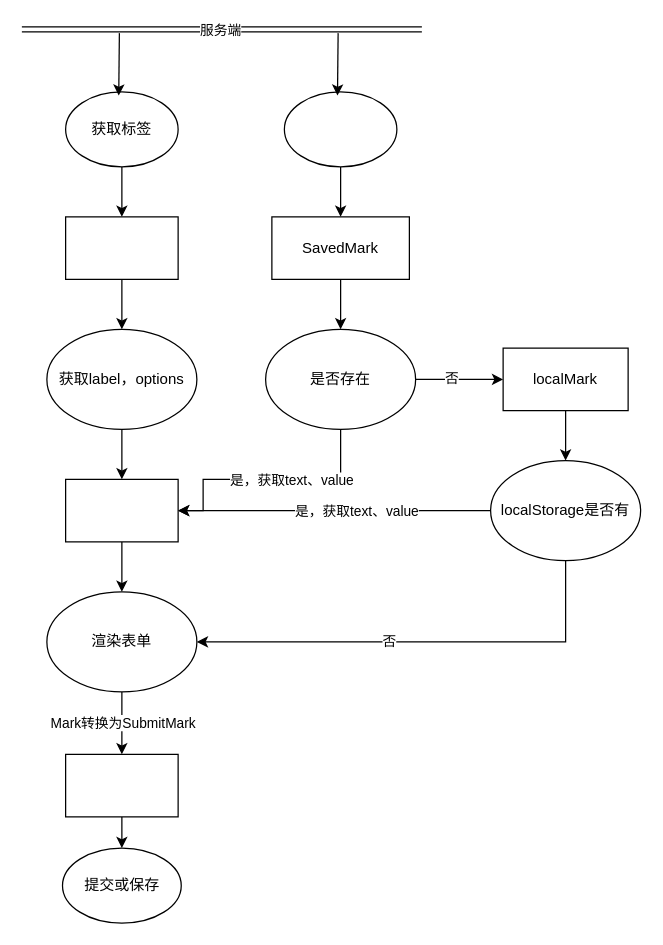
This 663x945 diagram has some shape labels left out. Here are the shapes that lost their labels. From the top down, the box of each, then its label:
(283, 91, 397, 167): 获取已打标数据
(64, 216, 178, 279): ServerMark
(64, 478, 178, 542): Mark
(64, 753, 178, 817): SubmitMark
